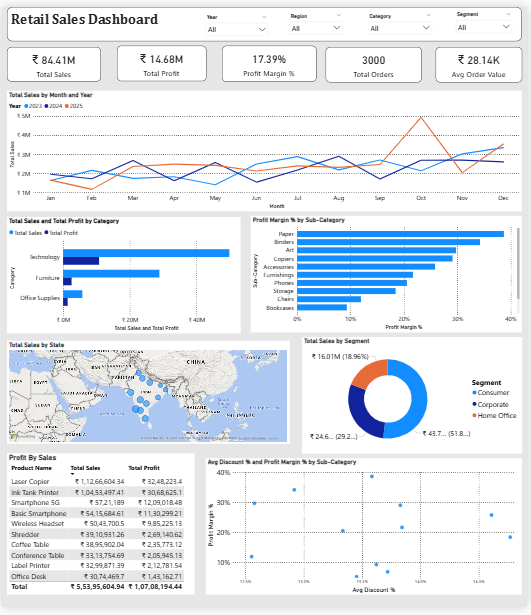

This screenshot's page, from the dashboard's own definition file:
{"tool":"powerbi","page":{"name":"Page 1","canvas":[1400,1600],"ordinal":0},"visuals":[{"type":"textbox","box":[14.3,0,1372.9,91.4],"z":0},{"type":"card","fields":{"Values":["retail_sales_data.Total Sales"]},"box":[14,106,250,92],"z":1000},{"type":"card","fields":{"Values":["retail_sales_data.Total Profit"]},"box":[306,104,238,94],"z":2000},{"type":"card","fields":{"Values":["retail_sales_data.Profit Margin %"]},"box":[586,104,252,96],"z":3000},{"type":"card","fields":{"Values":["retail_sales_data.Total Orders"]},"box":[864,106,256,94],"z":4000},{"type":"card","fields":{"Values":["retail_sales_data.Avg Order Value"]},"box":[1156,106,230,94],"z":5000},{"type":"lineChart","fields":{"Category":["DateTable.Month"],"Y":["retail_sales_data.Total Sales"],"Series":["DateTable.Year"]},"box":[14.3,224.3,1372.9,321.4],"z":6000},{"type":"clusteredBarChart","fields":{"Category":["retail_sales_data.Category"],"Y":["retail_sales_data.Total Sales","retail_sales_data.Total Profit"]},"box":[14.3,558.6,622.9,310],"z":7000},{"type":"clusteredBarChart","fields":{"Category":["retail_sales_data.Sub-Category"],"Y":["retail_sales_data.Profit Margin %"]},"box":[664.3,557.1,722.9,311.4],"z":8000},{"type":"map","fields":{"Category":["retail_sales_data.State"],"Size":["retail_sales_data.Total Sales"]},"box":[14.3,890,752.9,274.3],"z":9000},{"type":"donutChart","fields":{"Category":["retail_sales_data.Segment"],"Y":["retail_sales_data.Total Sales"]},"box":[800,878.6,587.1,311.4],"z":10000},{"type":"tableEx","title":"Profit By Sales","fields":{"Values":["retail_sales_data.Product Name","retail_sales_data.Total Sales","retail_sales_data.Total Profit"]},"box":[14.3,1190,500,377.1],"z":11000},{"type":"scatterChart","fields":{"Category":["retail_sales_data.Sub-Category"],"X":["retail_sales_data.Avg Discount %"],"Y":["retail_sales_data.Profit Margin %"]},"box":[544.3,1202.9,842.9,364.3],"z":12000},{"type":"slicer","fields":{"Values":["DateTable.Year"]},"box":[534.3,12.9,185.7,64.3],"z":13000},{"type":"slicer","fields":{"Values":["retail_sales_data.Region"]},"box":[757.5,8.8,161.2,63.8],"z":14000},{"type":"slicer","fields":{"Values":["retail_sales_data.Category"]},"box":[982,9,172,64],"z":15000},{"type":"slicer","fields":{"Values":["retail_sales_data.Segment"]},"box":[1200,8,170,76],"z":16000}]}

Visuals, with their boxes in screenshot pixels (x1, y1, x2, y2), scaled from the page's 1400x1600 canvas onto the 531x615 screenshot:
textbox: <bbox>5, 0, 526, 35</bbox>
card - retail_sales_data.Total Sales: <bbox>5, 41, 100, 76</bbox>
card - retail_sales_data.Total Profit: <bbox>116, 40, 206, 76</bbox>
card - retail_sales_data.Profit Margin %: <bbox>222, 40, 318, 77</bbox>
card - retail_sales_data.Total Orders: <bbox>328, 41, 425, 77</bbox>
card - retail_sales_data.Avg Order Value: <bbox>438, 41, 526, 77</bbox>
lineChart - DateTable.Month x retail_sales_data.Total Sales: <bbox>5, 86, 526, 210</bbox>
clusteredBarChart - retail_sales_data.Category x retail_sales_data.Total Sales: <bbox>5, 215, 242, 334</bbox>
clusteredBarChart - retail_sales_data.Sub-Category x retail_sales_data.Profit Margin %: <bbox>252, 214, 526, 334</bbox>
map - retail_sales_data.State x retail_sales_data.Total Sales: <bbox>5, 342, 291, 448</bbox>
donutChart - retail_sales_data.Segment x retail_sales_data.Total Sales: <bbox>303, 338, 526, 457</bbox>
"Profit By Sales" tableEx: <bbox>5, 457, 195, 602</bbox>
scatterChart - retail_sales_data.Sub-Category x retail_sales_data.Avg Discount %: <bbox>206, 462, 526, 602</bbox>
slicer - DateTable.Year: <bbox>203, 5, 273, 30</bbox>
slicer - retail_sales_data.Region: <bbox>287, 3, 348, 28</bbox>
slicer - retail_sales_data.Category: <bbox>372, 3, 438, 28</bbox>
slicer - retail_sales_data.Segment: <bbox>455, 3, 520, 32</bbox>
